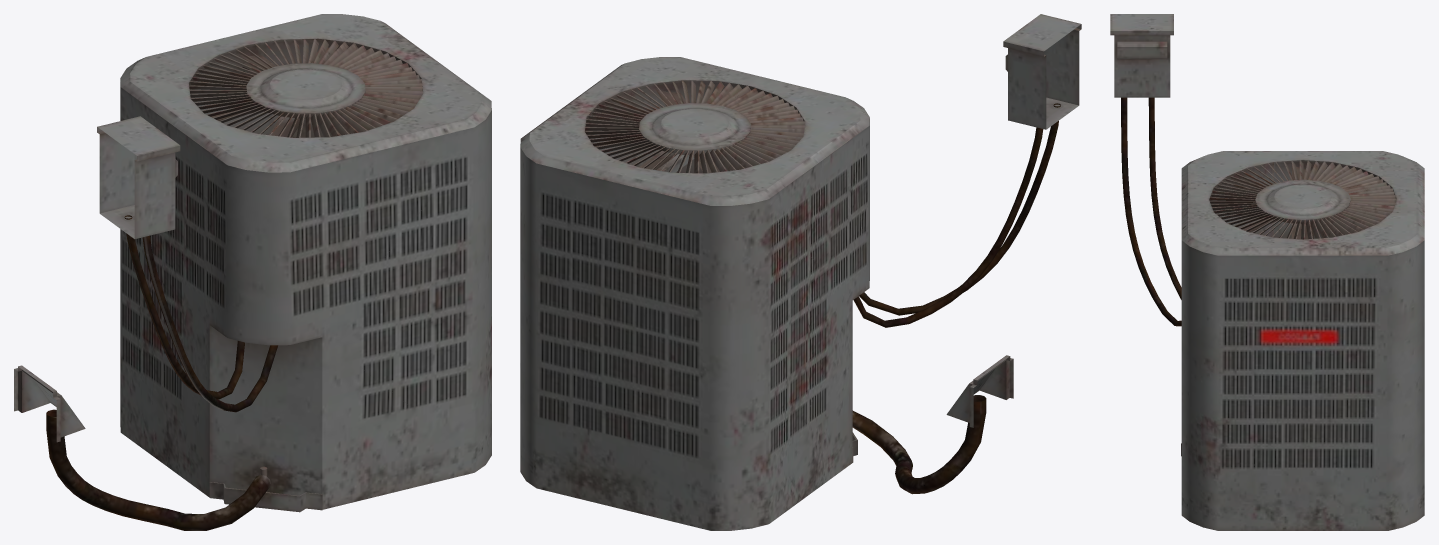
File: ac_units.glb
3 renders of one model, left to right at view 1: azimuth 30°, elevation 25°; view 2: azimuth 150°, elevation 25°; view 3: azimuth 270°, elevation 25°, orthographic. The views are drawn at different scales.
Parts seen in each view (by area): view 1: polySurface1, pCube96, pCube97, pCylinder2, pCylinder9, pCylinder11, pCube98, pCylinder10, polySurface2, pCube95; view 2: polySurface1, pCube96, pCube97, pCylinder2, pCylinder9, pCylinder10, pCylinder11, pCube98, pCube95; view 3: polySurface1, pCube96, pCube97, pCylinder2, pCylinder11, pCylinder10, pCube95.
Boxes of the visible parts, x1=… form: polySurface1: x1=120, y1=14, x2=491, y2=509; pCube96: x1=189, y1=39, x2=423, y2=137; pCube97: x1=97, y1=116, x2=180, y2=239; pCylinder2: x1=246, y1=63, x2=365, y2=118; pCylinder9: x1=46, y1=409, x2=270, y2=530; pCylinder11: x1=142, y1=235, x2=277, y2=412; pCube98: x1=14, y1=365, x2=85, y2=442; pCylinder10: x1=124, y1=215, x2=244, y2=399; polySurface2: x1=209, y1=482, x2=322, y2=512; pCube95: x1=194, y1=47, x2=349, y2=137; polySurface1: x1=520, y1=57, x2=869, y2=530; pCube96: x1=585, y1=80, x2=805, y2=173; pCube97: x1=1003, y1=14, x2=1081, y2=129; pCylinder2: x1=639, y1=103, x2=751, y2=155; pCylinder9: x1=852, y1=395, x2=986, y2=494; pCylinder10: x1=853, y1=127, x2=1043, y2=327; pCylinder11: x1=859, y1=103, x2=1060, y2=315; pCube98: x1=946, y1=355, x2=1013, y2=427; pCube95: x1=594, y1=89, x2=728, y2=173; polySurface1: x1=1181, y1=151, x2=1424, y2=530; pCube96: x1=1209, y1=160, x2=1396, y2=239; pCube97: x1=1110, y1=14, x2=1173, y2=97; pCylinder2: x1=1255, y1=179, x2=1350, y2=223; pCylinder11: x1=1121, y1=97, x2=1181, y2=326; pCylinder10: x1=1148, y1=97, x2=1181, y2=299; pCube95: x1=1212, y1=165, x2=1313, y2=239.
Bounding box in the file's own units: 1.08 × 1.1 × 0.8642.
1 material, 1 textured.
